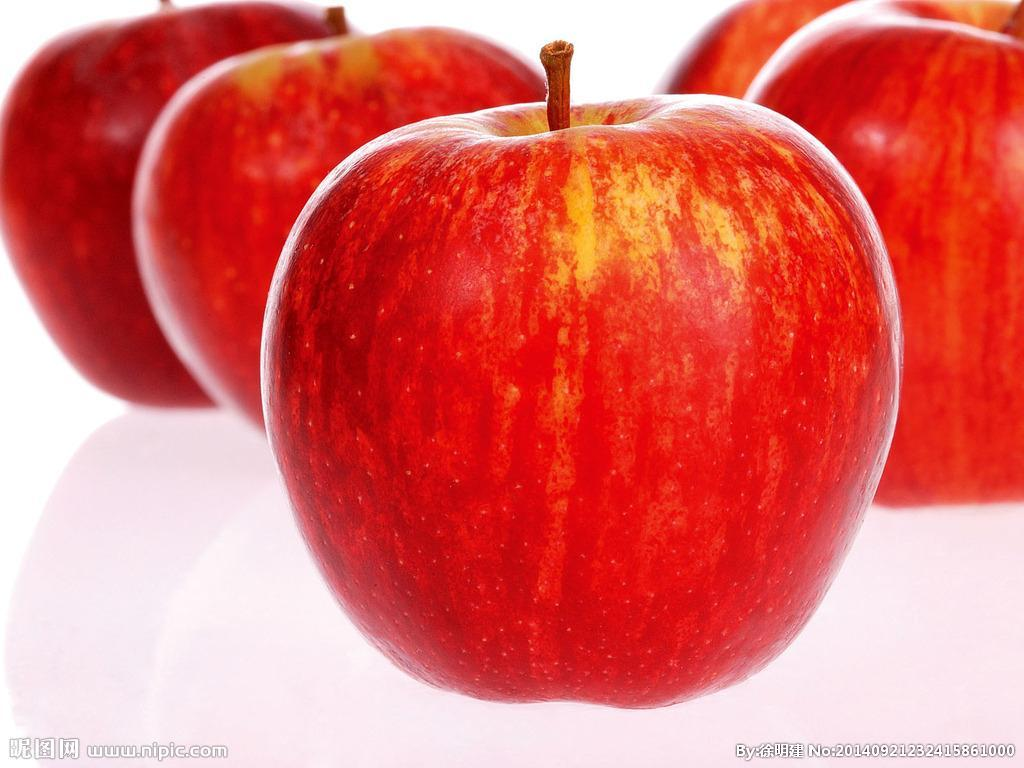apple: (257, 49, 905, 711)
